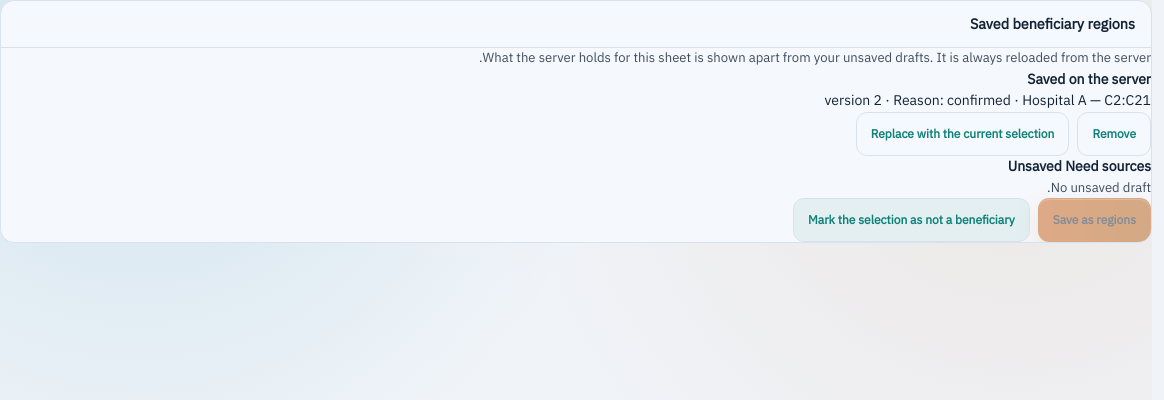
Test: HC1.1 — what the layer reports while the person works › a stale refusal reloads and drops the decision: nothing is pending any more, so nothing is dirty
The width and height of the screenshot is (1164, 400).
Click the button with test id "cn4-region-mark-non-beneficiary" at (911, 220), box [793,198,1030,242]
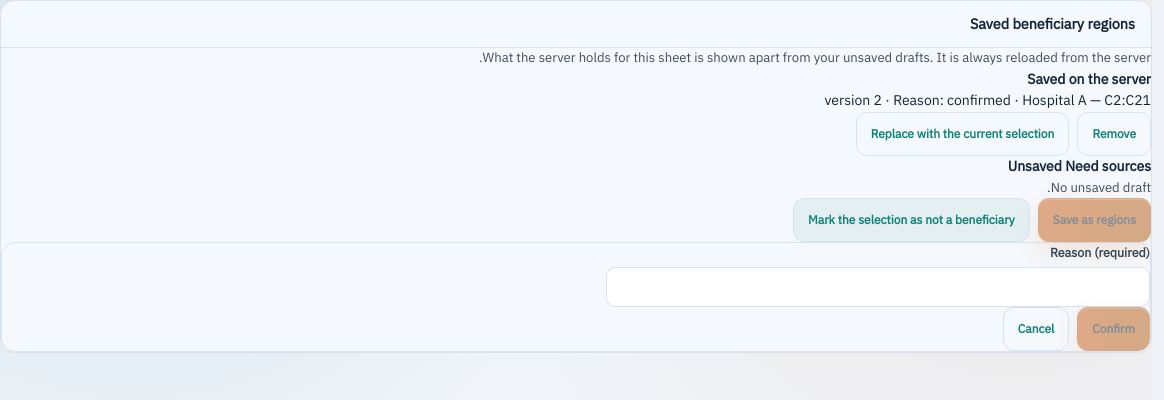
Type "footer block" into the field with test id "cn4-region-reason" at (878, 287), box [606,267,1150,307]
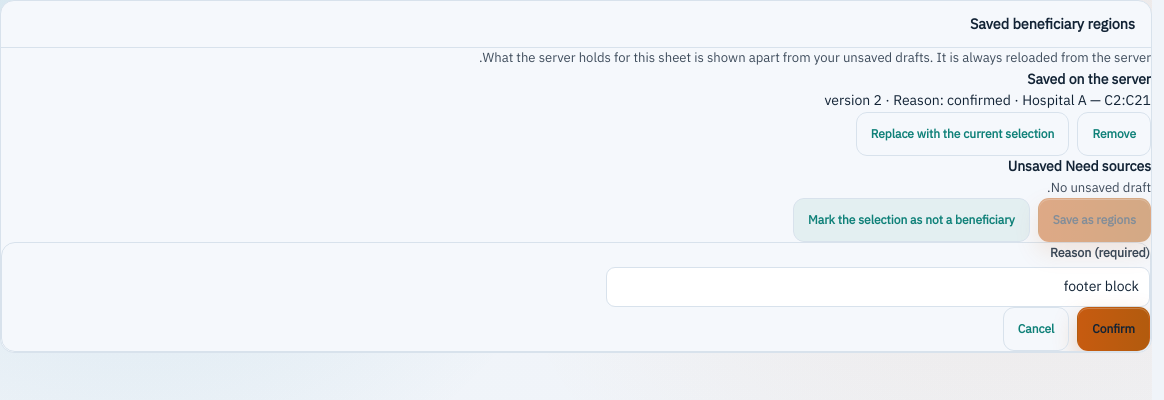
Click the button with test id "cn4-region-confirm-send" at (1114, 329), box [1077,307,1150,351]
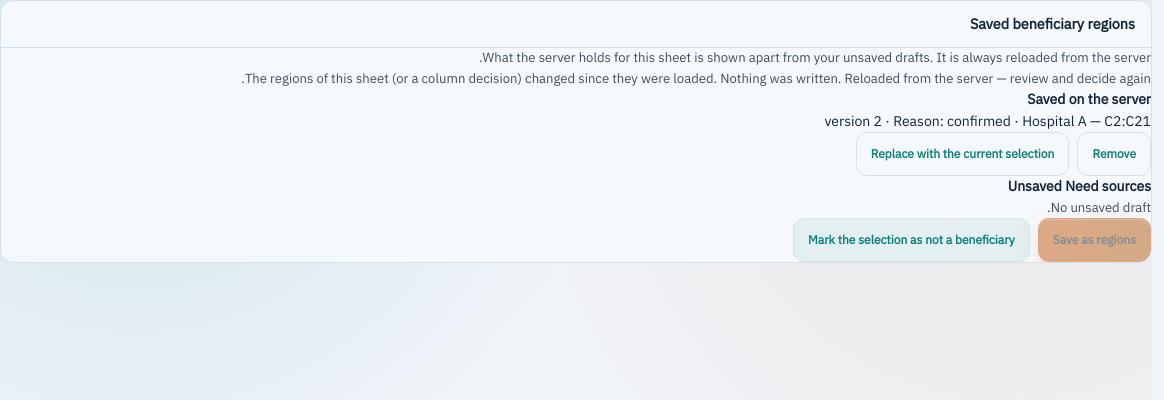
Expected: the element with test id "cn4-region-confirm" is gone
